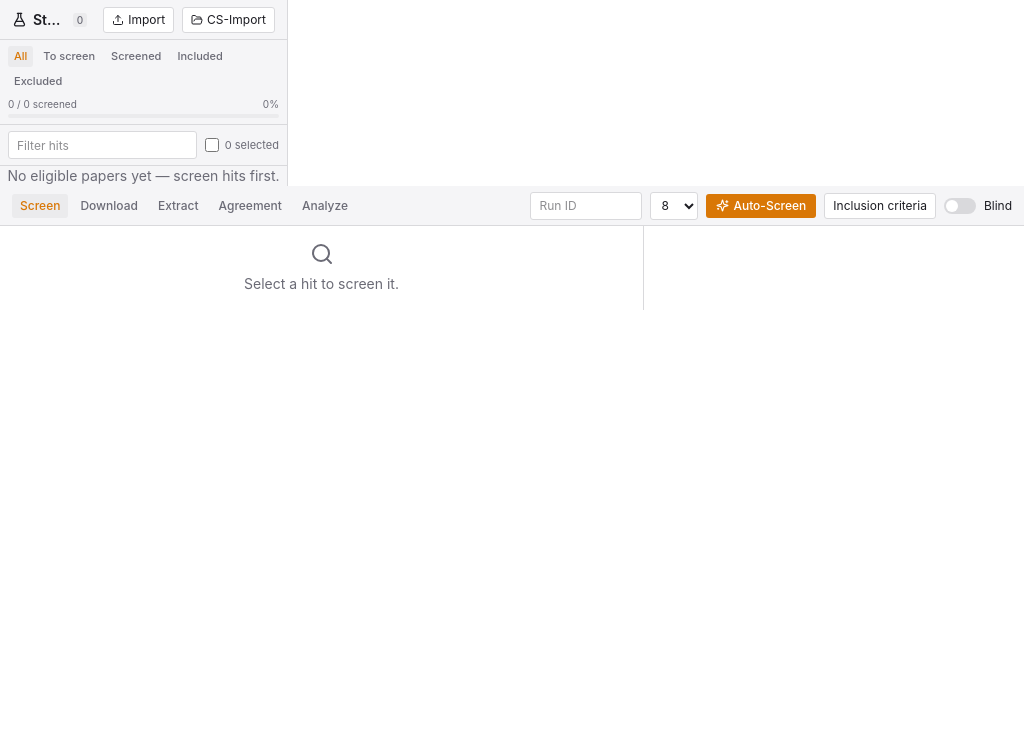
Test: MetaView analyze tab › renders the publication-bias suite and the Bayesian posterior block
The image size is (1024, 746).
Step 1. Click the button "Analyze" → [325, 206], box [294, 194, 356, 218]
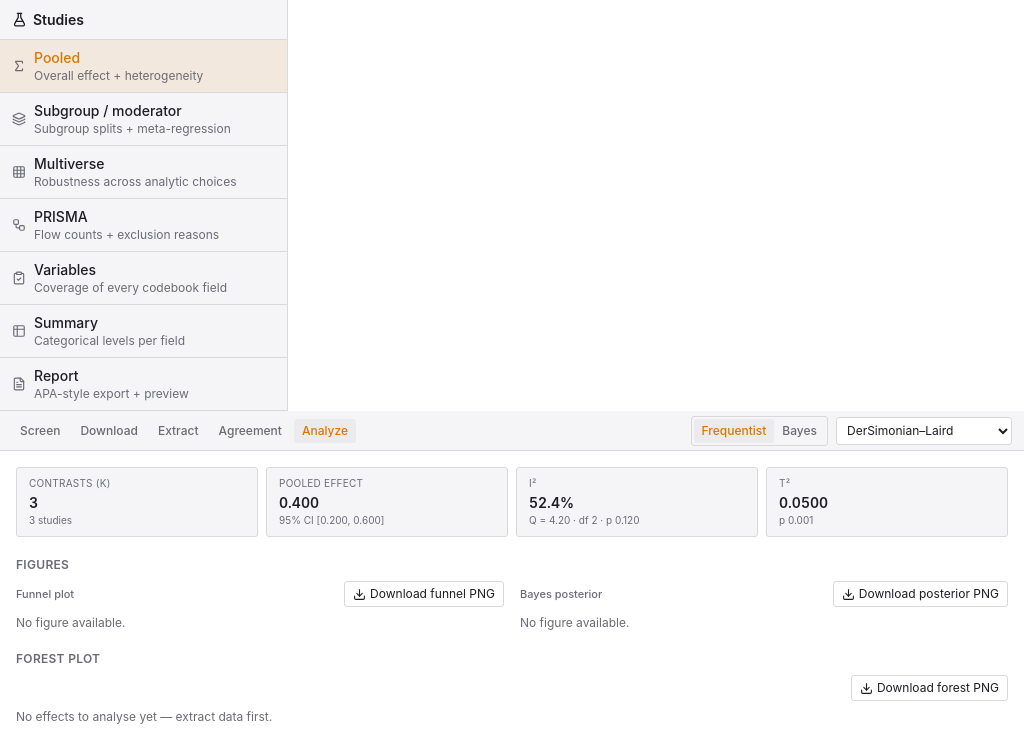
Step 2. Click the button "Bayes" → [800, 430], box [774, 418, 825, 442]
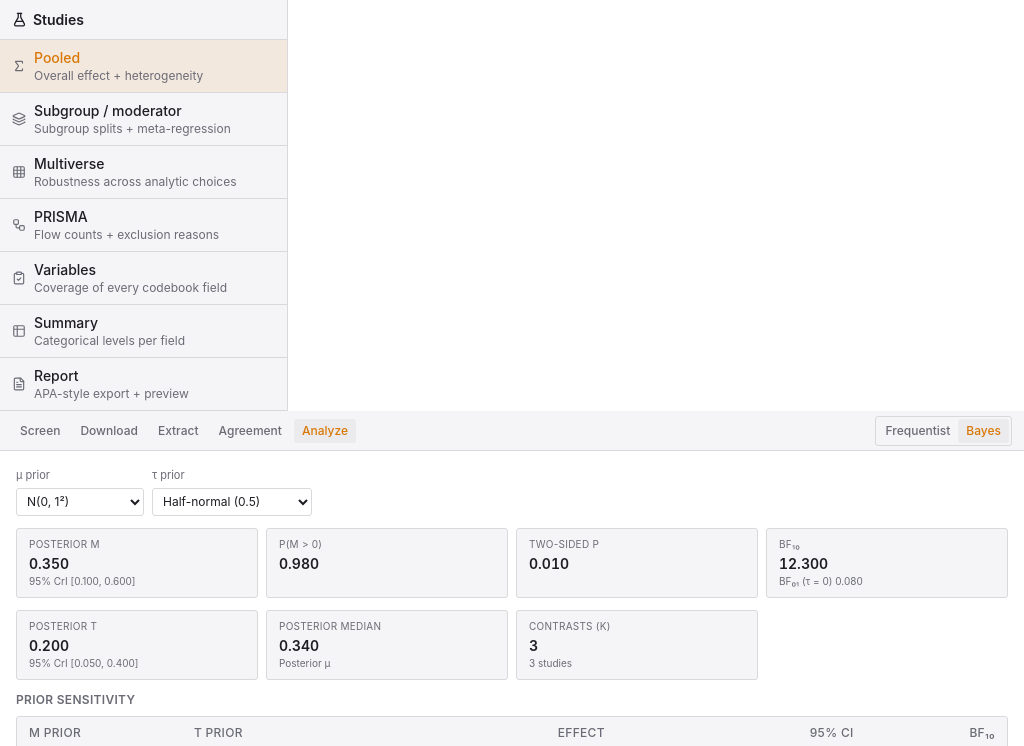
Expected: the text "BF₁₀" is shown, [779, 538, 800, 550]
Expected: the text "Prior sensitivity" is shown, [16, 692, 135, 706]
Expected: the text "0.350" is shown, [29, 554, 69, 572]
